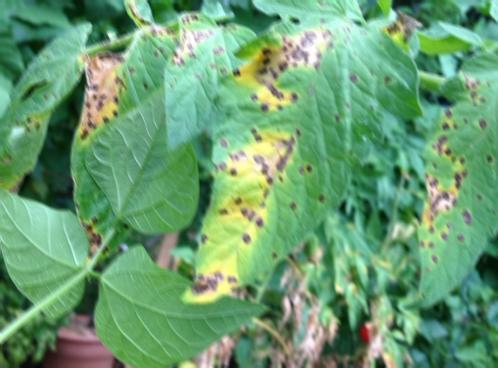Tomato Septoria leaf spot: (182, 24, 386, 304), (406, 51, 498, 301), (169, 18, 228, 162)
Tomato leaf: (0, 183, 90, 321)
